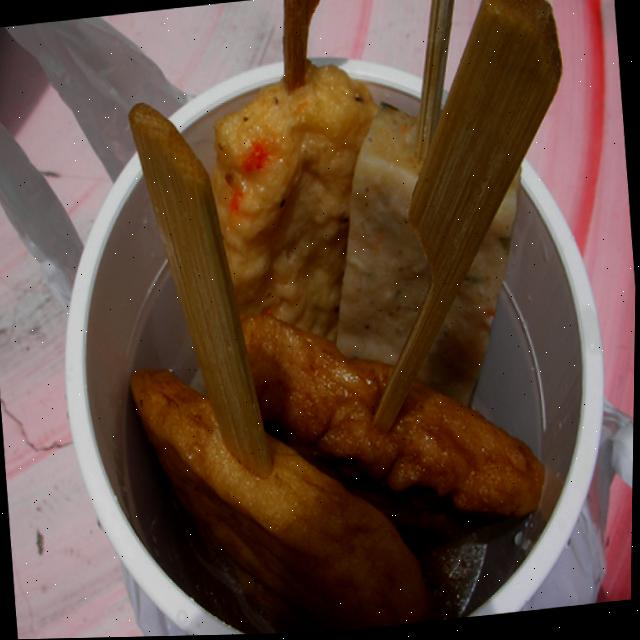汤锅炖物: (95, 0, 611, 638)
